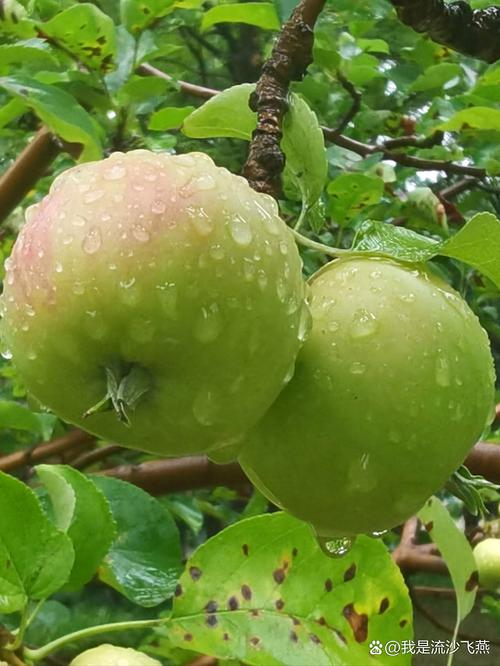unripe: (8, 148, 313, 466), (226, 236, 500, 539)
